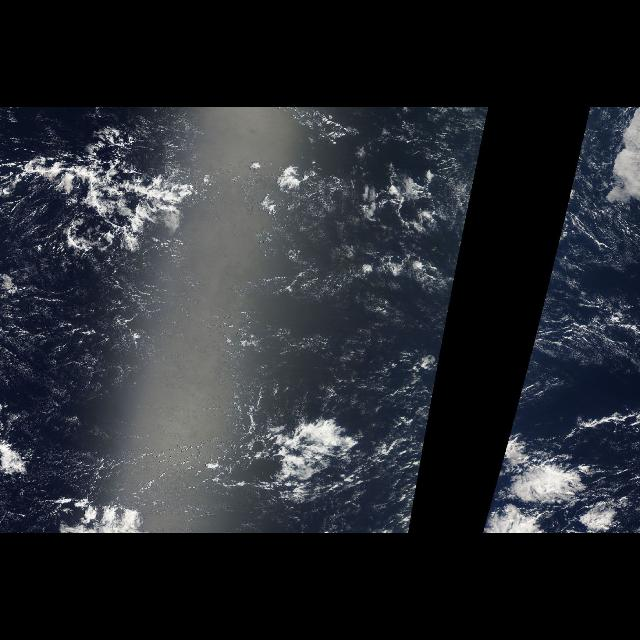Fish: (214, 380, 428, 520), (1, 123, 209, 261)
Sugar: (237, 244, 425, 426), (4, 248, 168, 438)
